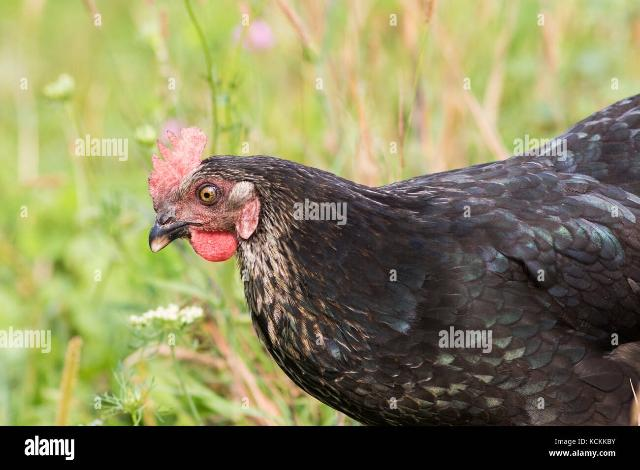Chicken: (147, 91, 640, 425)
